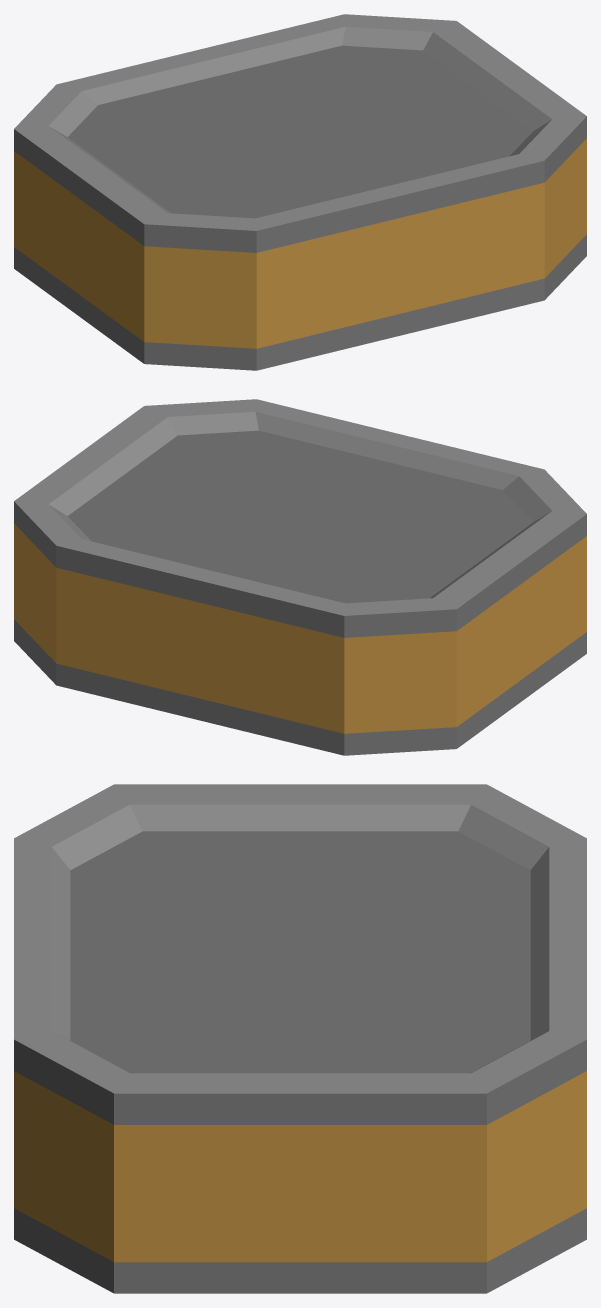
File: SM_Food_CannedFood_04.fbx
3 views of the same model, one above another, from view 1: azimuth 30°, elevation 25°; view 2: azimuth 150°, elevation 25°; view 3: azimuth 270°, elevation 25° (orthographic). The views are drawn at different scales.
Parts seen in each view (by area): view 1: SM_Food_CannedFood_04; view 2: SM_Food_CannedFood_04; view 3: SM_Food_CannedFood_04.
Part boxes in pixels (bbox=[...]): SM_Food_CannedFood_04: bbox=[14, 14, 586, 370]; SM_Food_CannedFood_04: bbox=[14, 399, 586, 755]; SM_Food_CannedFood_04: bbox=[14, 784, 586, 1293].
Size of the model in its own units: 0.1514 by 0.0457 by 0.1186.
